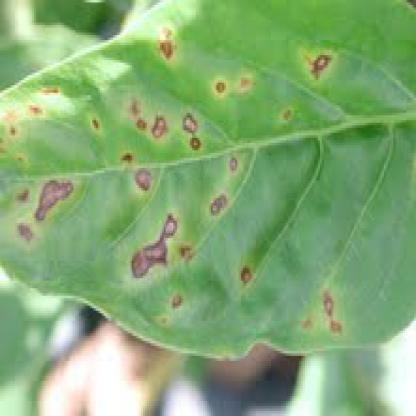bell pepper leaf spot: (2, 5, 401, 361)
